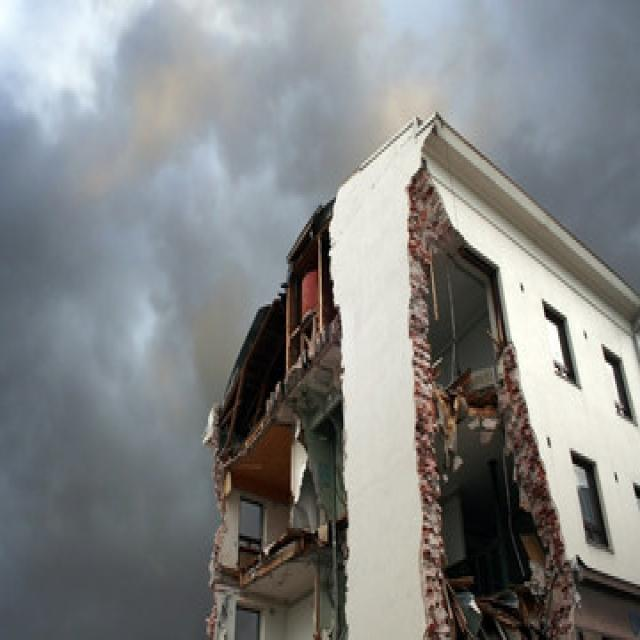Destroyed_building: (170, 5, 640, 640)
